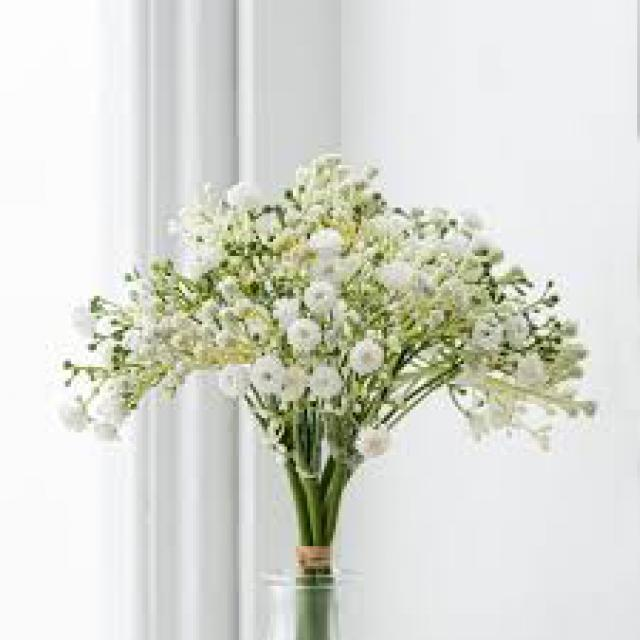gypsophila: (51, 178, 614, 469)
